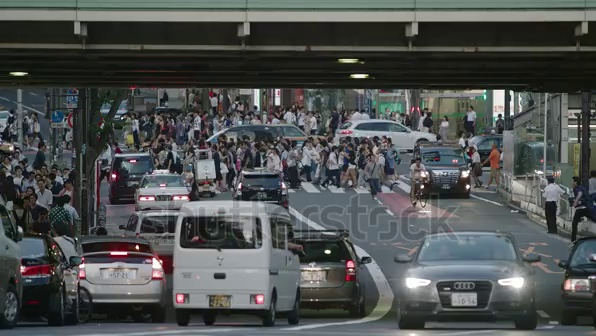licenseplate: (447, 291, 480, 312)
